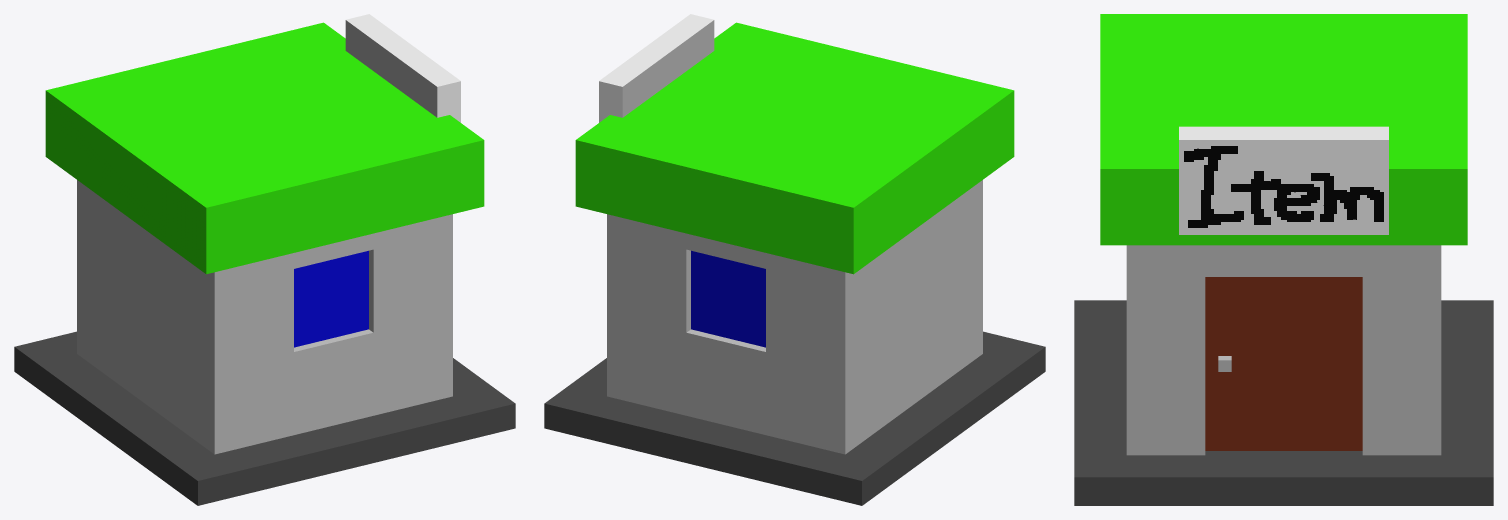
File: ItemShop.fbx
3 views of the same model, side by side, from view 1: azimuth 30°, elevation 25°; view 2: azimuth 150°, elevation 25°; view 3: azimuth 270°, elevation 25° (orthographic). The views are drawn at different scales.
Parts seen in each view (by area): view 1: ItemShop; view 2: ItemShop; view 3: ItemShop.
Part boxes in pixels (x1,y1,x2,y2): ItemShop: (14,14,515,505); ItemShop: (544,14,1045,505); ItemShop: (1074,14,1493,505).
Size of the model in its own units: 267 by 253 by 267.
